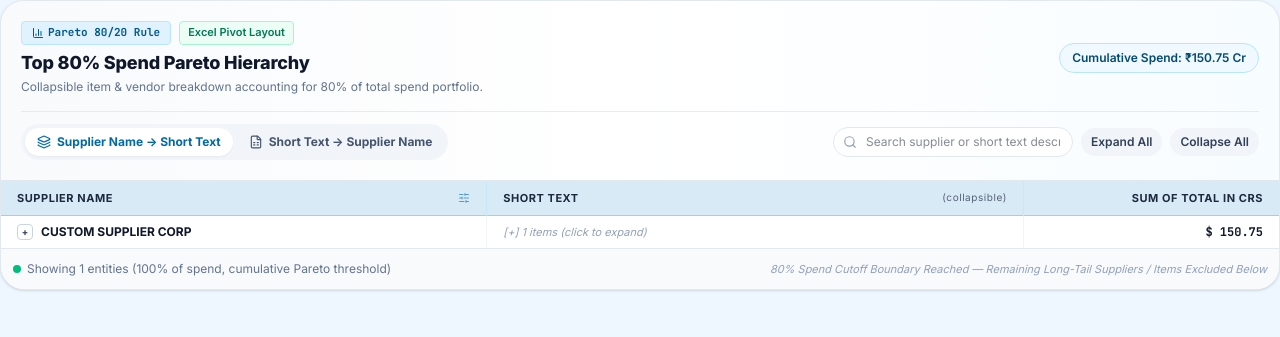
Test: ParetoSpendHierarchySection Component › renders custom hierarchy and currency props properly
expect the text "$ 150.75" is shown: met, box [1023,216,1279,248]
Click the text "CUSTOM SUPPLIER CORP".
click(116, 232)  # box [41,224,192,240]
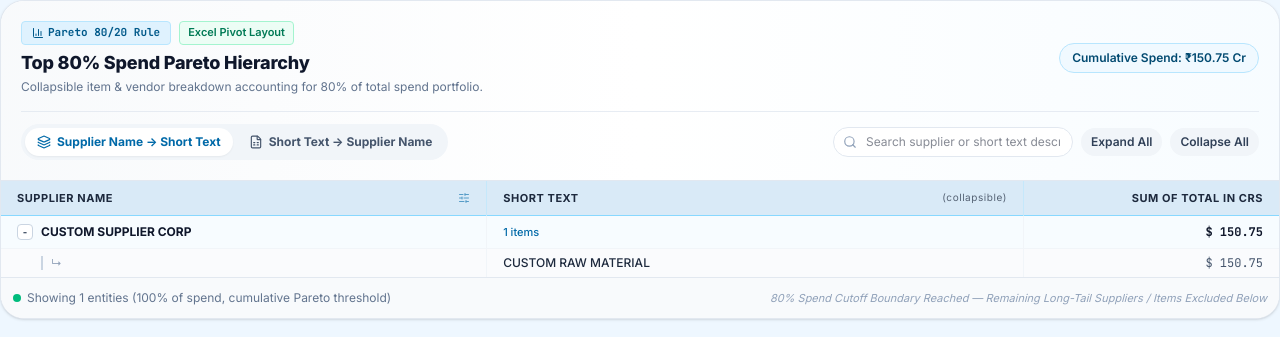
expect the text "CUSTOM RAW MATERIAL" is shown: met, box [503,255,650,270]
